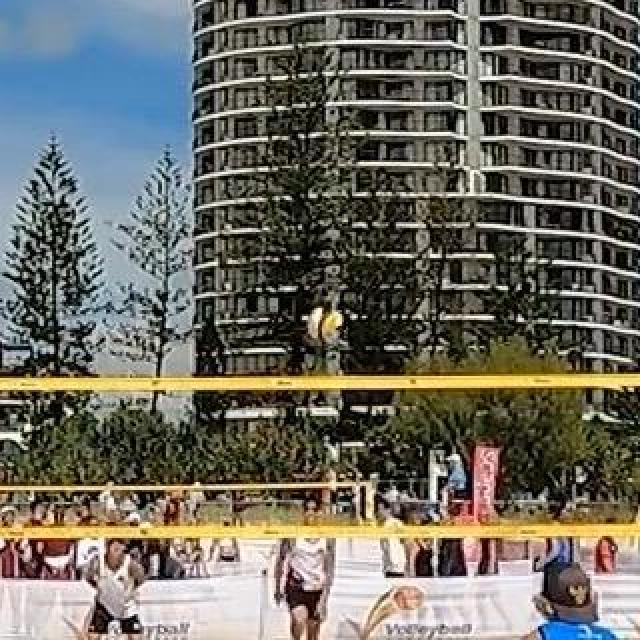volleyball: (310, 307, 342, 339)
